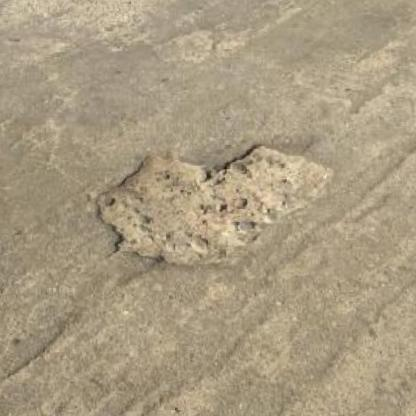pothole: (94, 140, 335, 267)
